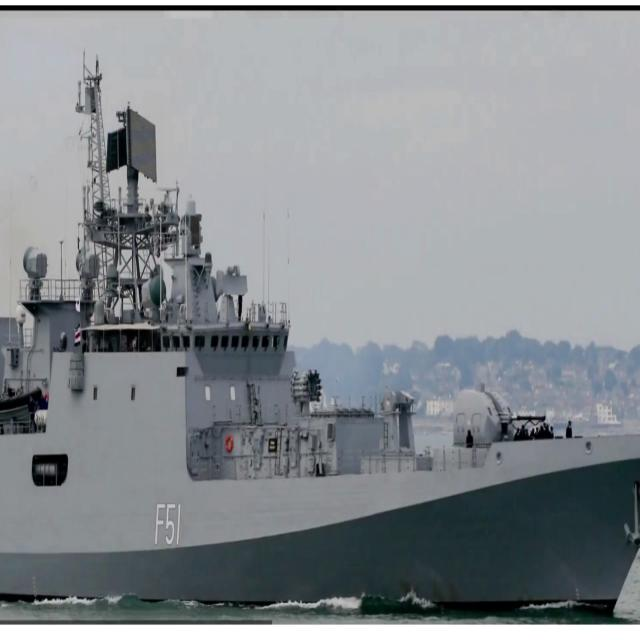OCR: (152, 501, 186, 553)
